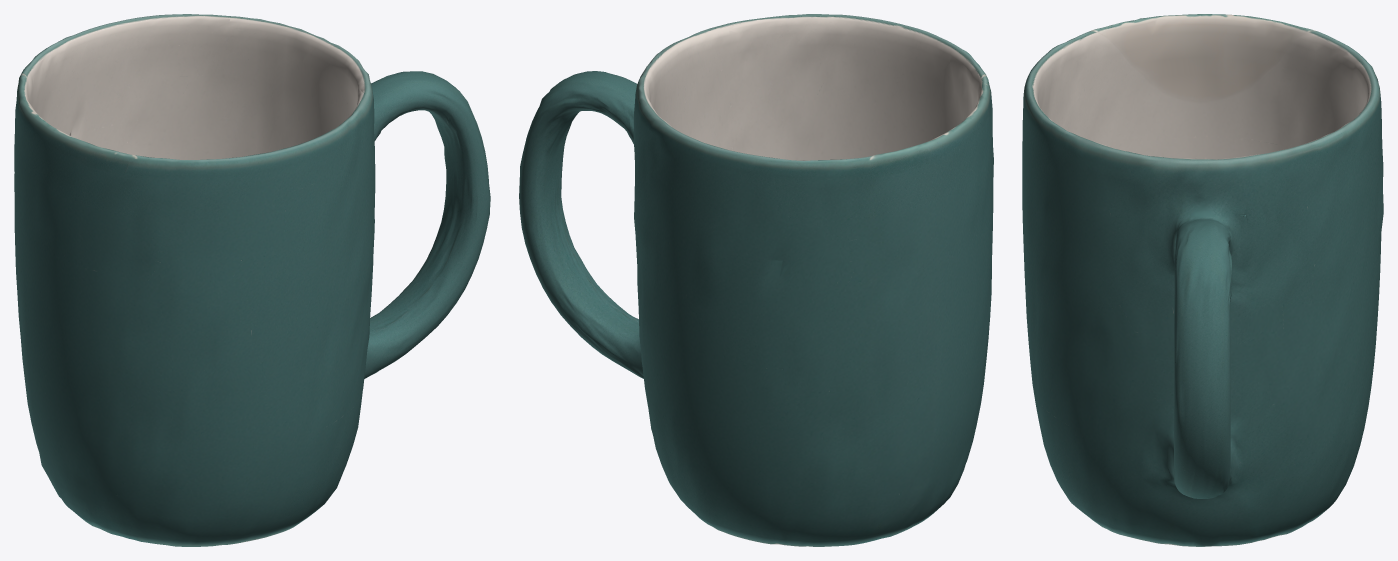
File: ck_teal_cup-original.glb
3 renders of one model, left to right at view 1: azimuth 30°, elevation 25°; view 2: azimuth 150°, elevation 25°; view 3: azimuth 270°, elevation 25°, orthographic.
Size of the model in its own units: 0.9507 by 0.8262 by 0.6665.
Materials: 1 (1 with a texture image).
